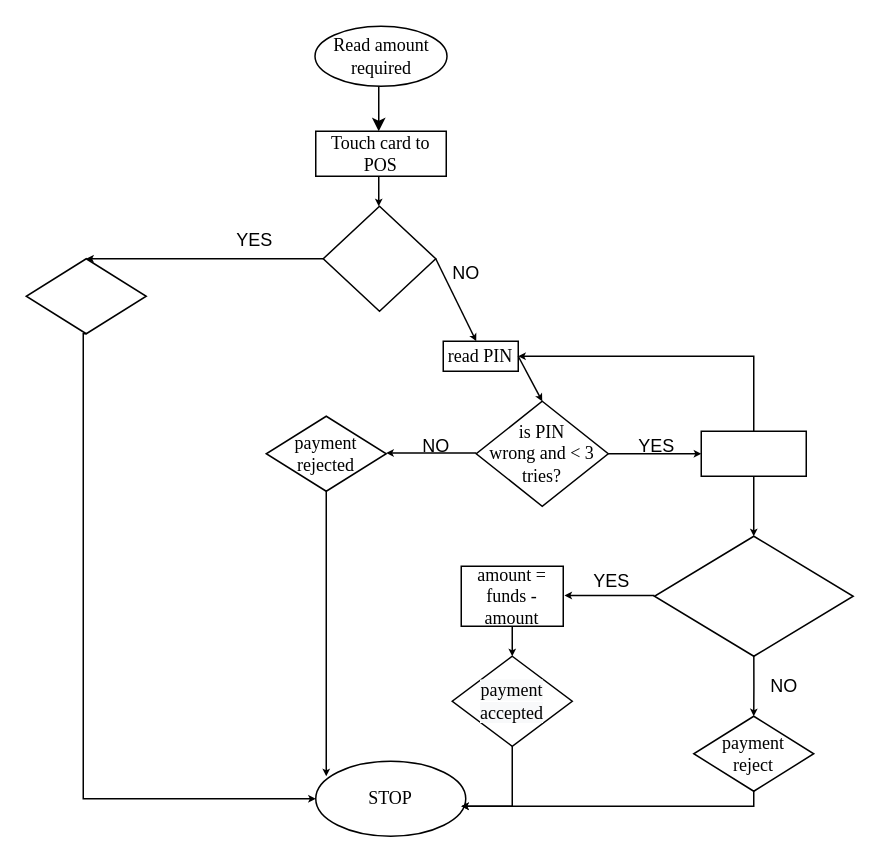
This 881x863 diagram has some shape labels left out. The centre of each missing label's shape, as x and y in pixels:
0 tries: point (85, 295)
is amount requested ≤ available funds?: point (753, 595)
is amount ≥ 100 ?: point (379, 258)
tries = tries +1: point (753, 453)
